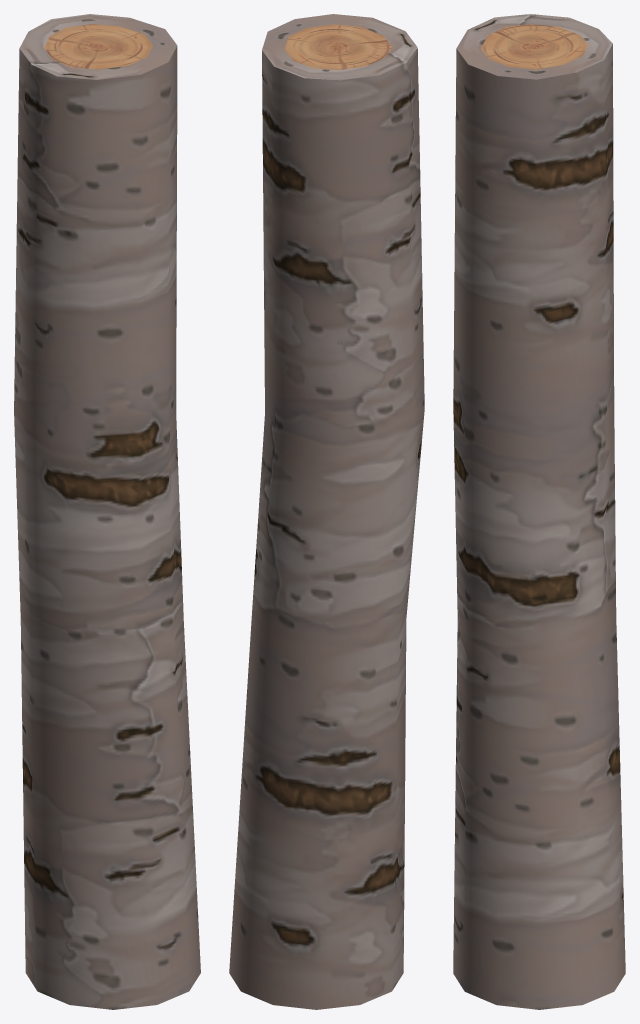
File: obj_harvests_trees_birch01_p02.fbx
The picture shows the model from 3 angles, left to right: view 1: azimuth 30°, elevation 25°; view 2: azimuth 150°, elevation 25°; view 3: azimuth 270°, elevation 25°; orthographic projection.
Visible parts, largest first — view 1: chunk02; view 2: chunk02; view 3: chunk02.
Boxes of the visible parts, x1=… form: chunk02: x1=14, y1=14, x2=200, y2=1009; chunk02: x1=229, y1=14, x2=424, y2=1009; chunk02: x1=453, y1=14, x2=625, y2=1009.
Bounding box in the file's own units: 1.51 × 8 × 1.36.
